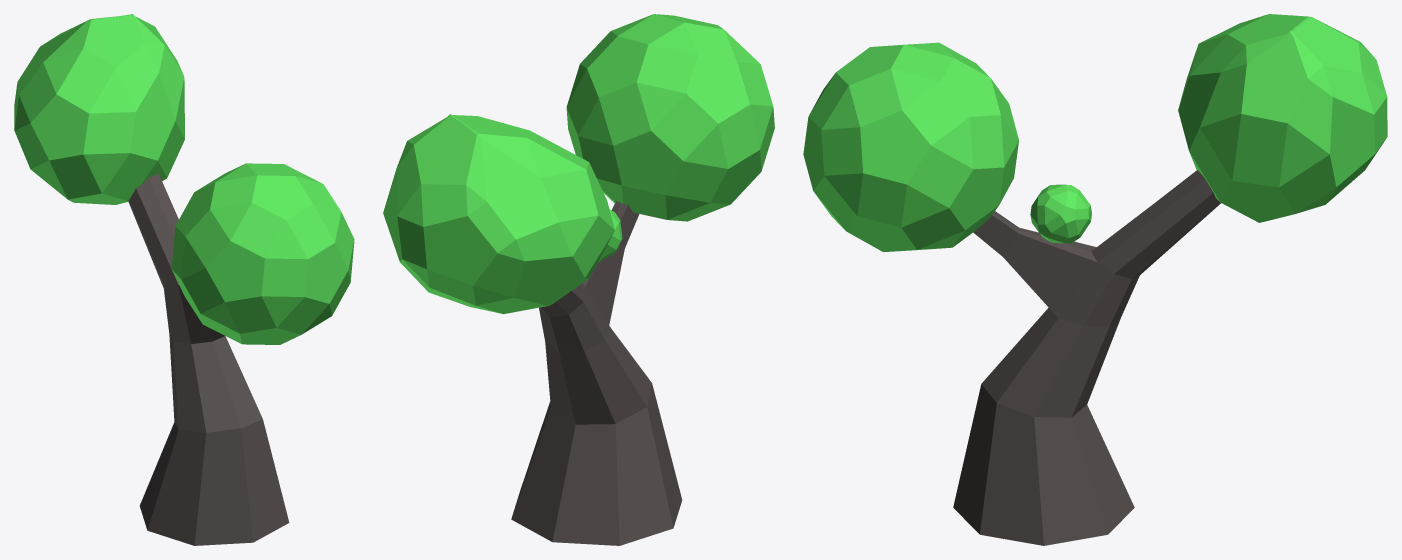
Rendered from Árbol.fbx.
3 renders of one model, left to right at view 1: azimuth 30°, elevation 25°; view 2: azimuth 150°, elevation 25°; view 3: azimuth 270°, elevation 25°, orthographic. The views are drawn at different scales.
Parts seen in each view (by area): view 1: Ärbol; view 2: Ärbol; view 3: Ärbol.
Part boxes in pixels (left/top/right/bottom): Ärbol: left=14, top=14, right=354, bottom=545; Ärbol: left=383, top=14, right=774, bottom=545; Ärbol: left=803, top=14, right=1387, bottom=545.
Size of the model in its own units: 299 by 726 by 785.
